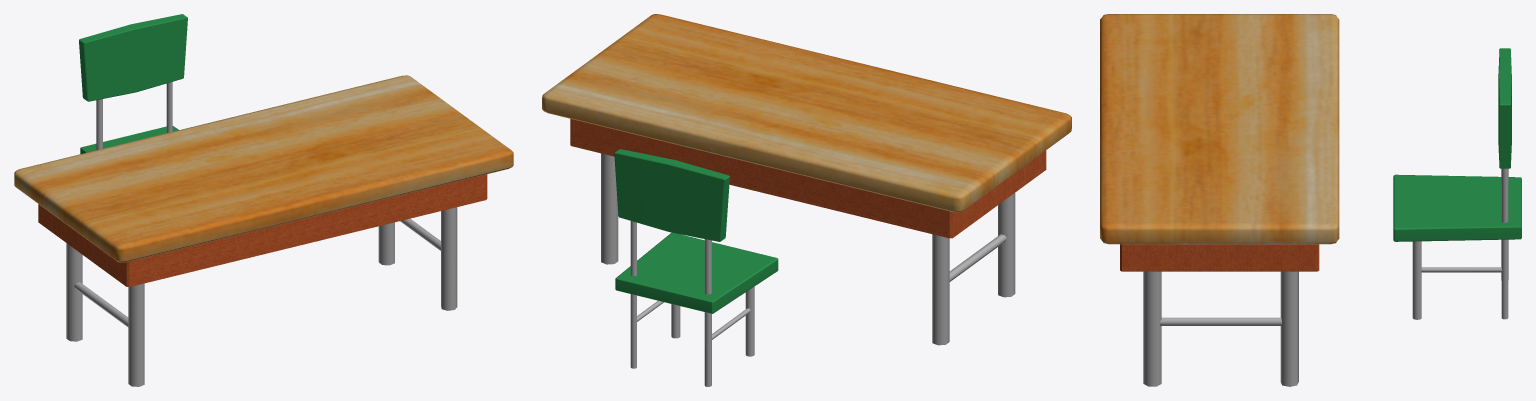
The model's file is table chidren.fbx.
3 renders of one model, left to right at view 1: azimuth 30°, elevation 25°; view 2: azimuth 150°, elevation 25°; view 3: azimuth 270°, elevation 25°, orthographic. The views are drawn at different scales.
Parts seen in each view (by area): view 1: table_child1, chair_child; view 2: table_child1, chair_child; view 3: table_child1, chair_child.
Part boxes in pixels (left/top/right/bottom): table_child1: left=14, top=75, right=513, bottom=386; chair_child: left=79, top=14, right=187, bottom=153; table_child1: left=542, top=14, right=1071, bottom=345; chair_child: left=614, top=149, right=778, bottom=386; table_child1: left=1100, top=14, right=1339, bottom=386; chair_child: left=1393, top=48, right=1521, bottom=319.
Size of the model in its own units: 129 by 62.79 by 107.
4 materials, 2 textured.
